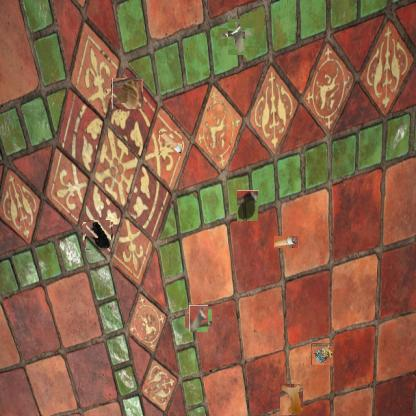dirty: (112, 78, 142, 109), (84, 221, 112, 249), (223, 24, 249, 51), (158, 132, 182, 156), (187, 307, 210, 330), (311, 343, 333, 365), (274, 236, 298, 248)
liquid: (279, 383, 303, 415), (238, 190, 260, 221)
